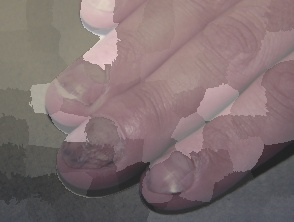Nail_psoriasis: (133, 131, 221, 220), (55, 110, 147, 181), (43, 50, 125, 124), (80, 0, 136, 17)
